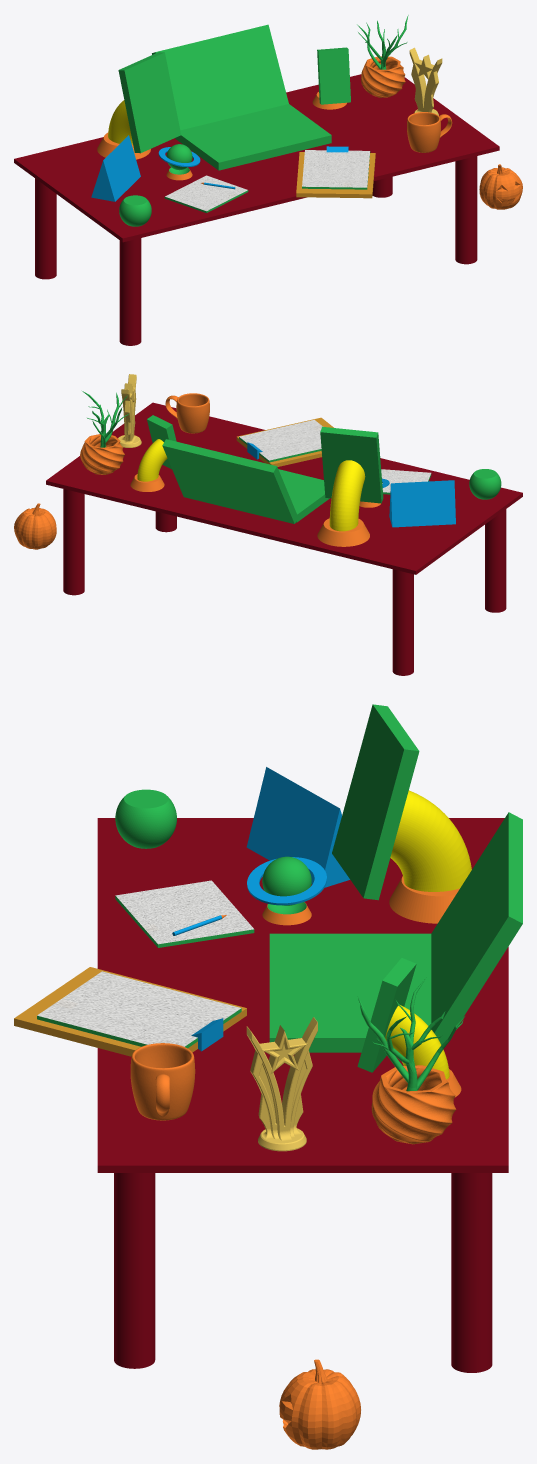
Rendered from tPotfolio.glb.
3 renders of one model, top to bottom at view 1: azimuth 30°, elevation 25°; view 2: azimuth 150°, elevation 25°; view 3: azimuth 270°, elevation 25°, orthographic. The views are drawn at different scales.
Size of the model in its own units: 0.242 by 0.1071 by 0.1238.
10 materials, 1 textured.
